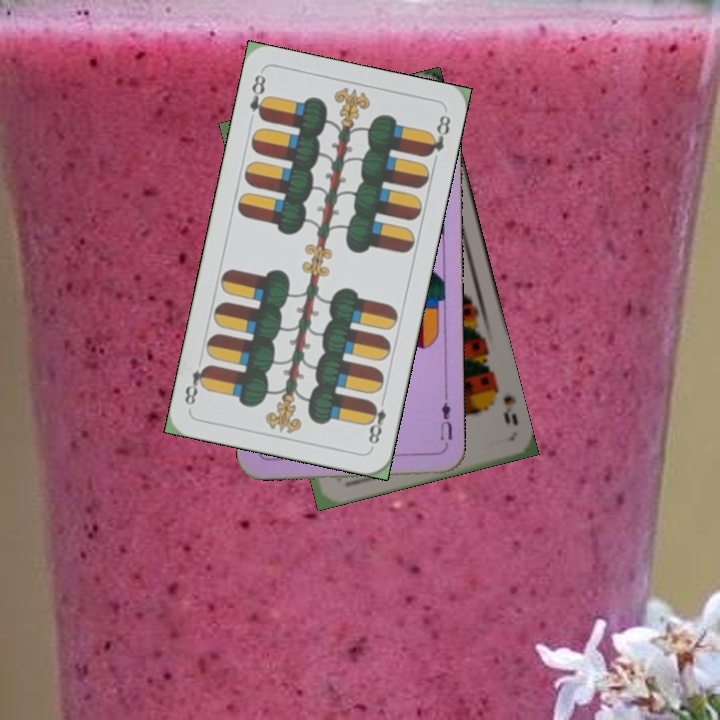E8: (363, 392, 389, 450), (245, 70, 271, 124)
EU: (436, 392, 455, 451)
S9: (489, 377, 521, 428)
